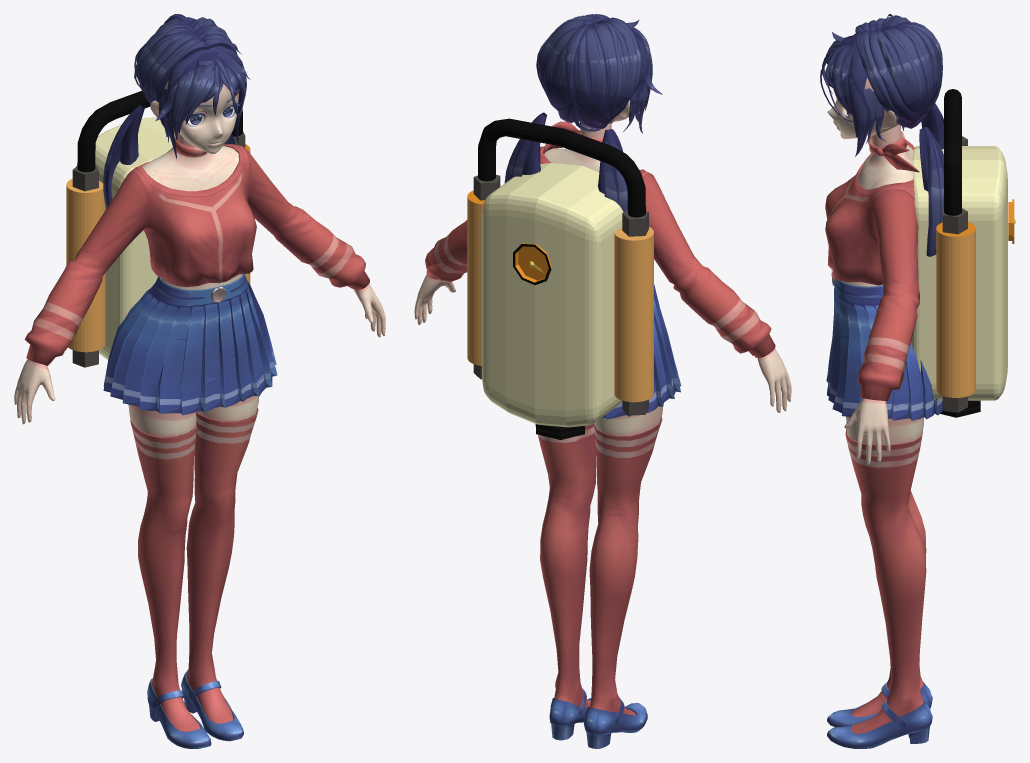
The picture shows the model from 3 angles, left to right: view 1: azimuth 30°, elevation 25°; view 2: azimuth 150°, elevation 25°; view 3: azimuth 270°, elevation 25°; orthographic projection.
Visible parts, largest first — view 1: Sweater #36332, Pantyhose, Skirt, JetPack, Hair, Body #36320.003, Shoes #36313.001, Head; view 2: JetPack, Pantyhose, Hair, Sweater #36332, Body #36320.003, Shoes #36313.001, Skirt; view 3: JetPack, Sweater #36332, Hair, Pantyhose, Skirt, Body #36320.003, Shoes #36313.001, Head.
Part boxes in pixels (<box>): Sweater #36332: <box>24,136,369,365</box>; Pantyhose: <box>130,408,258,731</box>; Skirt: <box>103,274,277,415</box>; JetPack: <box>66,91,250,367</box>; Hair: <box>103,14,250,208</box>; Body #36320.003: <box>14,132,385,437</box>; Shoes #36313.001: <box>147,670,243,748</box>; Head: <box>150,80,239,153</box>; JetPack: <box>467,118,653,439</box>; Pantyhose: <box>535,417,662,715</box>; Hair: <box>504,14,662,212</box>; Sweater #36332: <box>425,121,775,357</box>; Body #36320.003: <box>414,123,791,436</box>; Shoes #36313.001: <box>549,688,647,748</box>; Skirt: <box>601,284,681,419</box>; JetPack: <box>911,89,1015,417</box>; Sweater #36332: <box>825,131,919,401</box>; Hair: <box>820,14,943,256</box>; Pantyhose: <box>845,429,926,733</box>; Skirt: <box>826,269,942,420</box>; Body #36320.003: <box>842,124,923,464</box>; Shoes #36313.001: <box>827,682,932,748</box>; Head: <box>827,78,898,138</box>.
Bounding box in the file's own units: 96.67 × 180 × 44.88.
